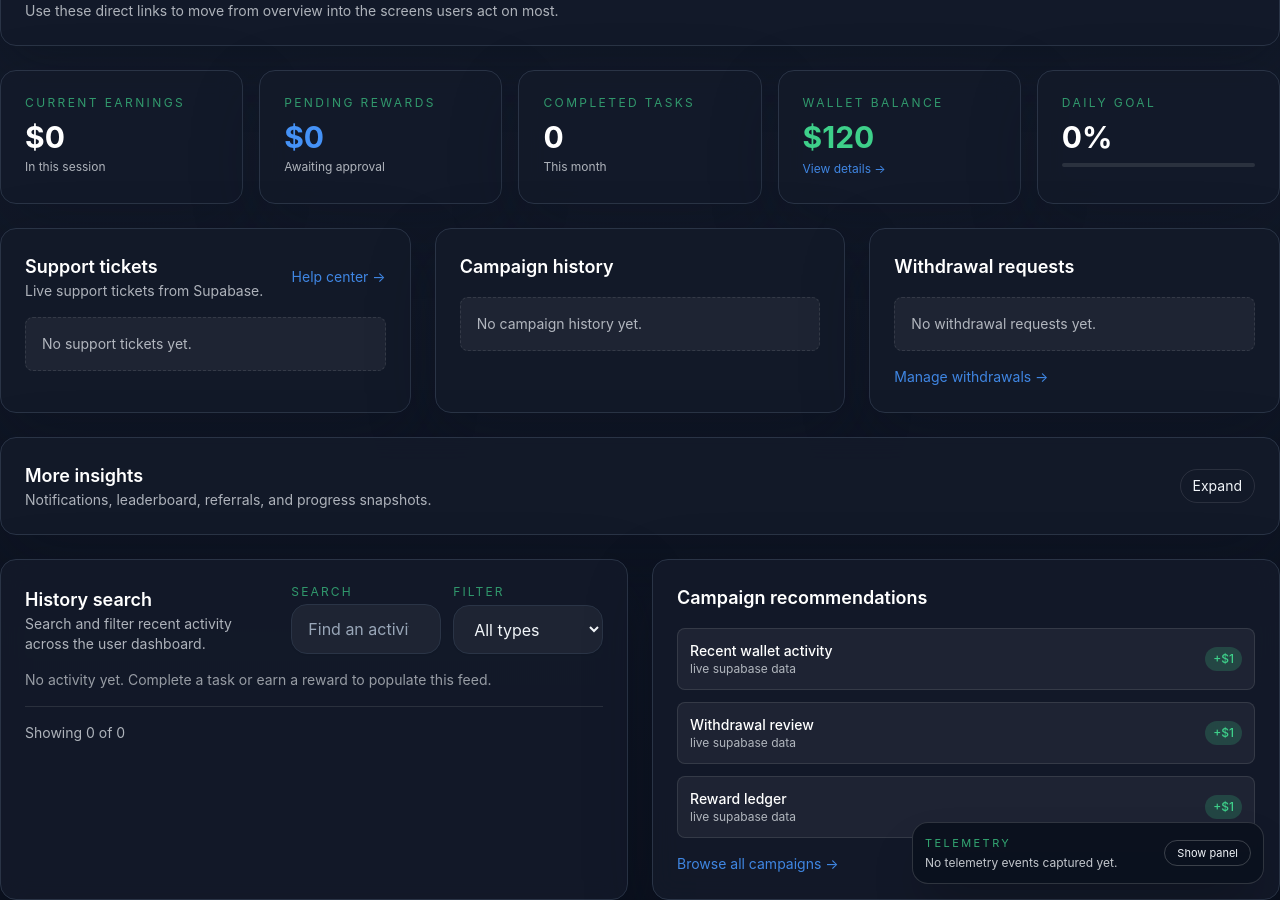
it: DashboardPage › shows empty states when the user has no dashboard records yet
(page scrolled)
Check: the heading "More insights" is shown, box [25, 465, 143, 486]
Click the button "Expand".
click(1217, 486)  # box [1180, 469, 1255, 503]
(page scrolled)
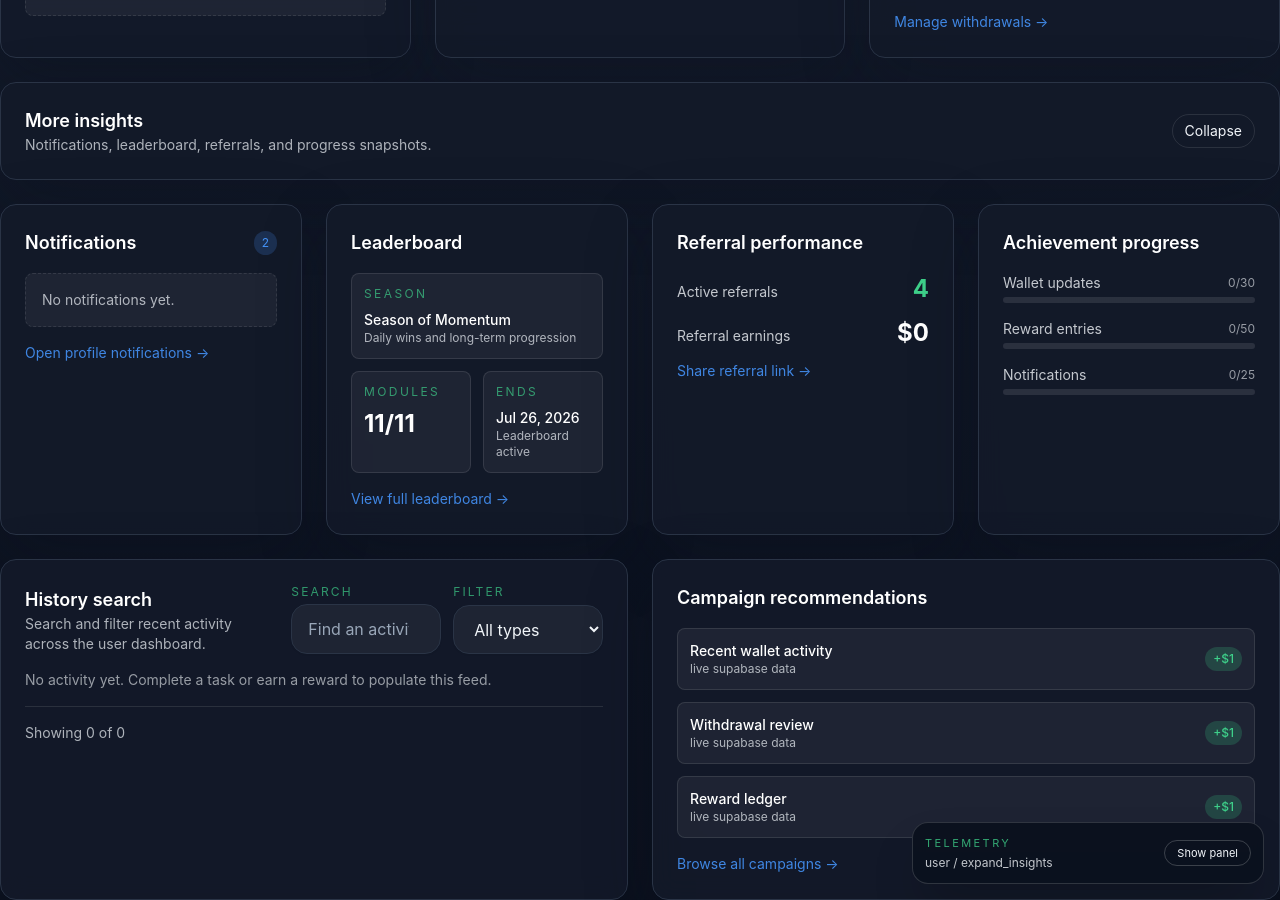
Check: the text "No activity yet. Complete a task or earn a reward to populate this feed." is shown, box [25, 671, 492, 688]
Check: the text "No notifications yet." is shown, box [25, 273, 277, 327]
